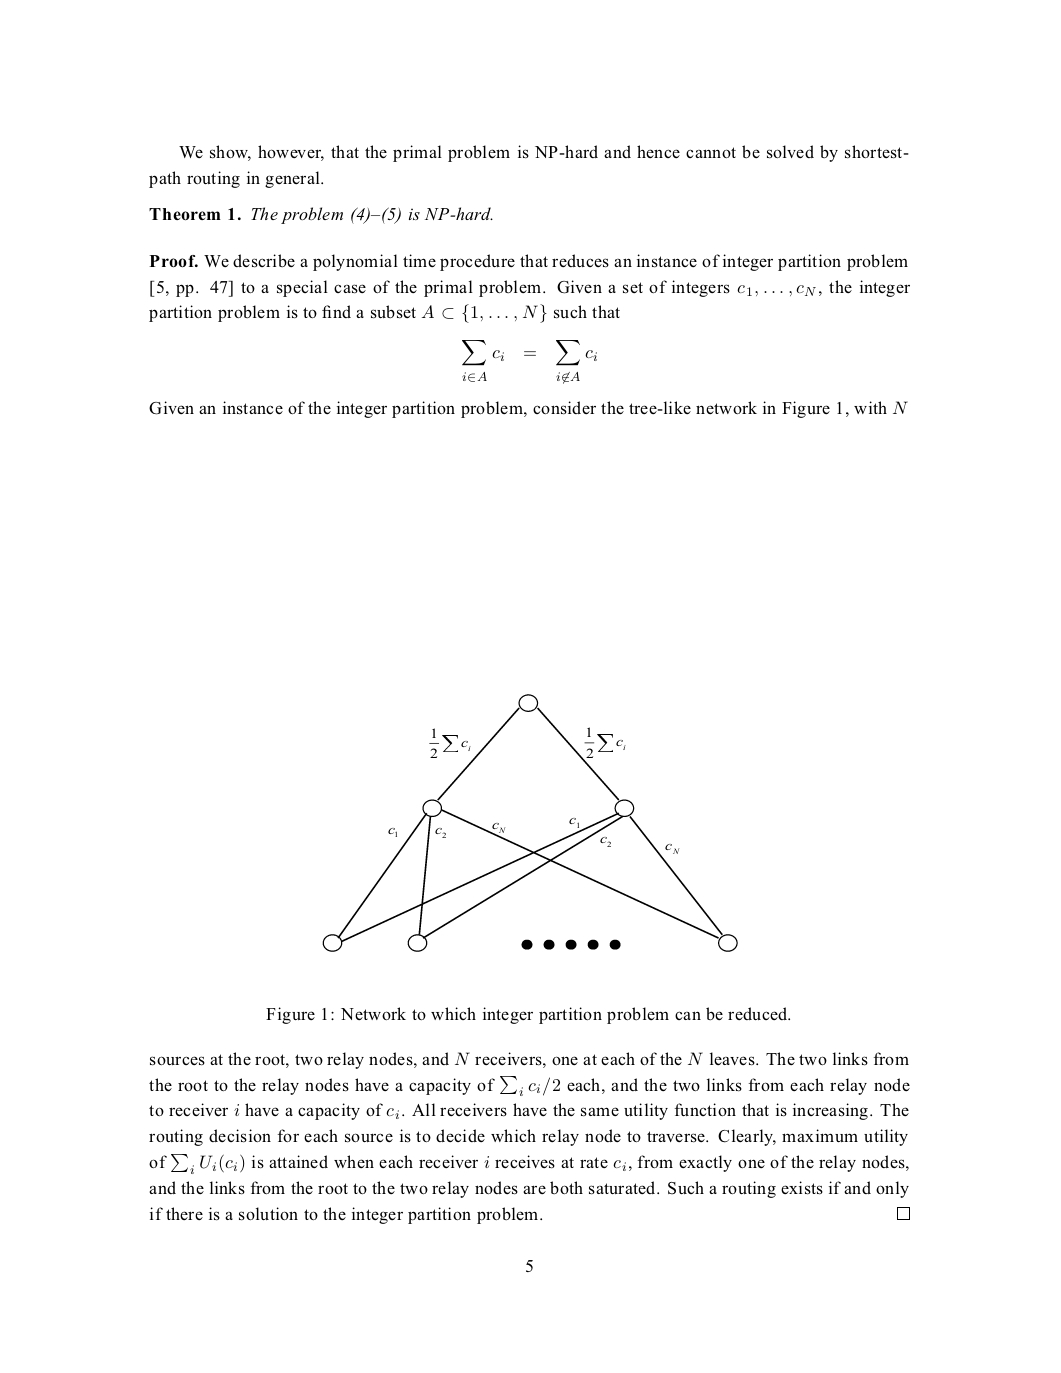figure: (322, 692, 737, 952)
formula: (463, 340, 596, 383)
